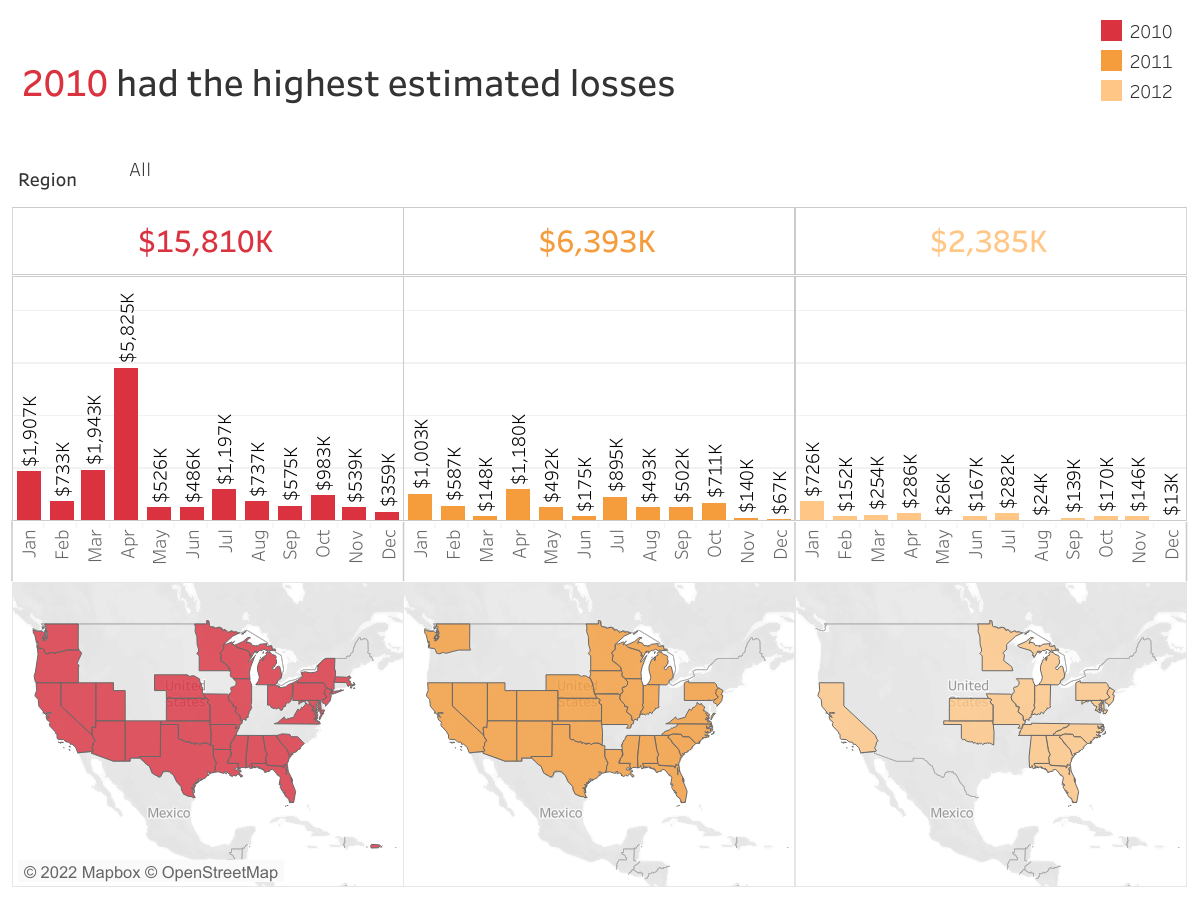

What the dashboard file says about the page in this screenshot:
{"tool":"tableau","page":{"name":"Losses","canvas":[800,600],"ordinal":0},"visuals":[{"type":"title","box":[8,8,784,91]},{"type":"legend","title":"Trend","param":"[federated.08tgq9m0jn3obn1gvd3c91y98ap2].[yr:Effective Date:ok]","box":[731.5,10.2,57.4,61.7]},{"type":"filter","title":"Trend","param":"[federated.08tgq9m0jn3obn1gvd3c91y98ap2].[none:Region:nk]","box":[8,99,784,39]},{"type":"worksheet","title":"Numbers","mark":"Automatic","cols":["Effective Date"],"box":[8,138,784,46]},{"type":"worksheet","title":"Trend","mark":"Bar","rows":["Estimated Loss"],"cols":["Effective Date","Effective Date"],"box":[8,184,784,204]},{"type":"worksheet","title":"Map","mark":"Multipolygon","cols":["Effective Date"],"box":[8,388,784,204]}]}

Visuals, with their boxes in screenshot pixels (x1, y1, x2, y2), scaled from the page's 800x600 canvas onto the 1199x899 screenshot:
title: left=12, top=12, right=1187, bottom=148
"Trend" legend: left=1096, top=15, right=1182, bottom=108
"Trend" filter: left=12, top=148, right=1187, bottom=207
"Numbers" worksheet: left=12, top=207, right=1187, bottom=276
"Trend" worksheet (Bar marks): left=12, top=276, right=1187, bottom=581
"Map" worksheet (Multipolygon marks): left=12, top=581, right=1187, bottom=887
